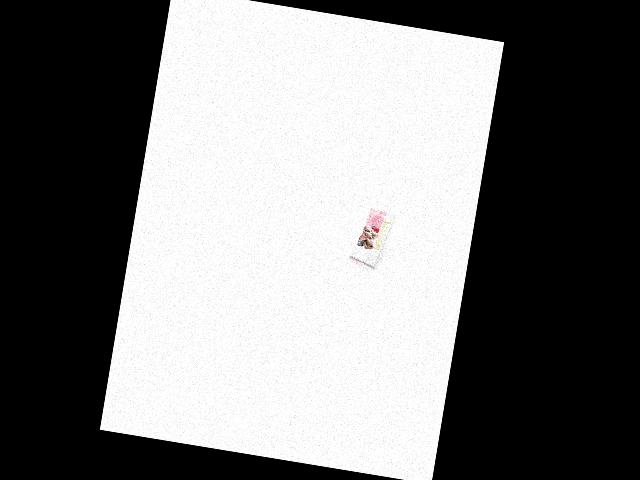chocolate: (346, 206, 397, 270)
